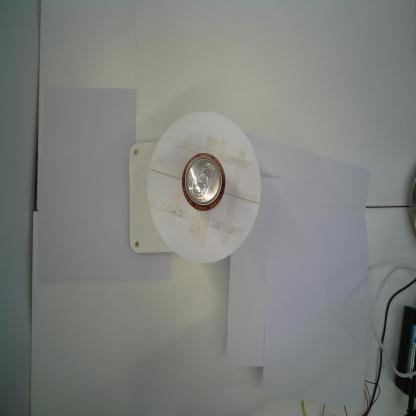Drink: (181, 152, 226, 212)
